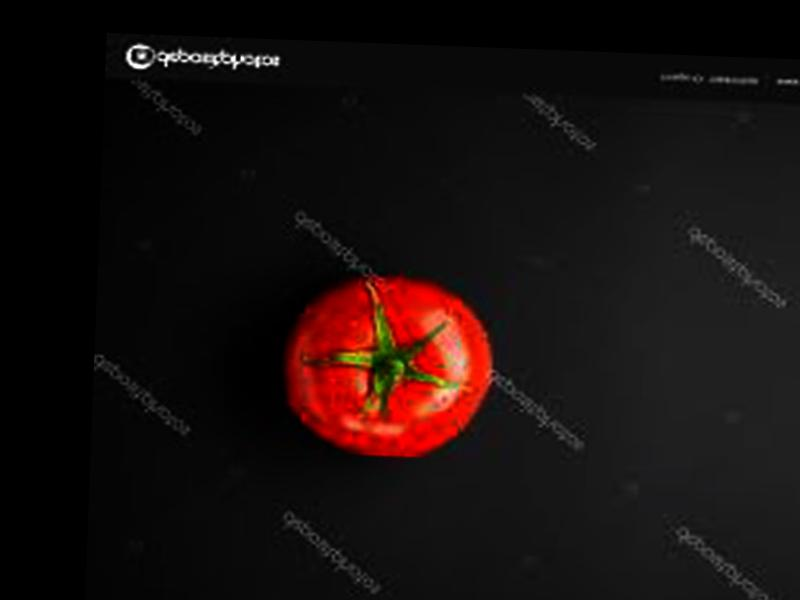Tomato: (280, 270, 499, 463)
